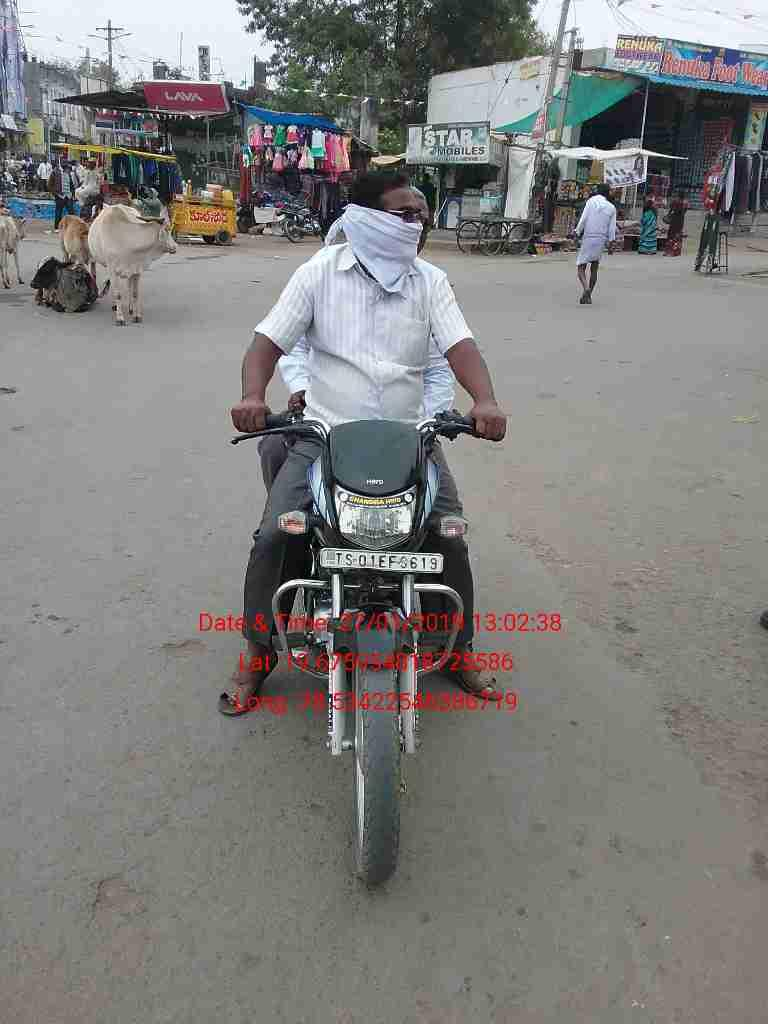plate: (316, 539, 454, 582)
